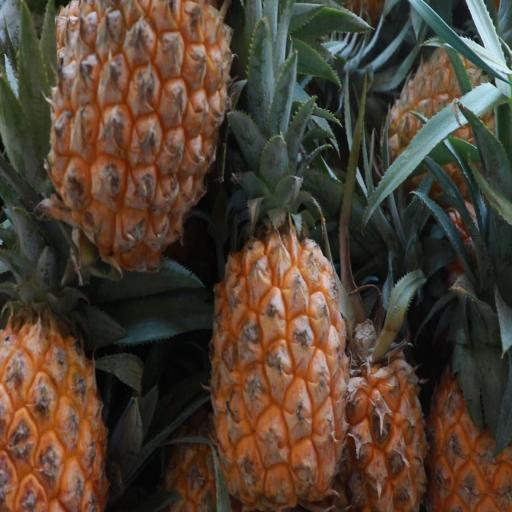Pineapple - v8 v1: (207, 151, 358, 512), (44, 0, 236, 275), (428, 187, 512, 512), (2, 302, 114, 512), (332, 295, 434, 512)
